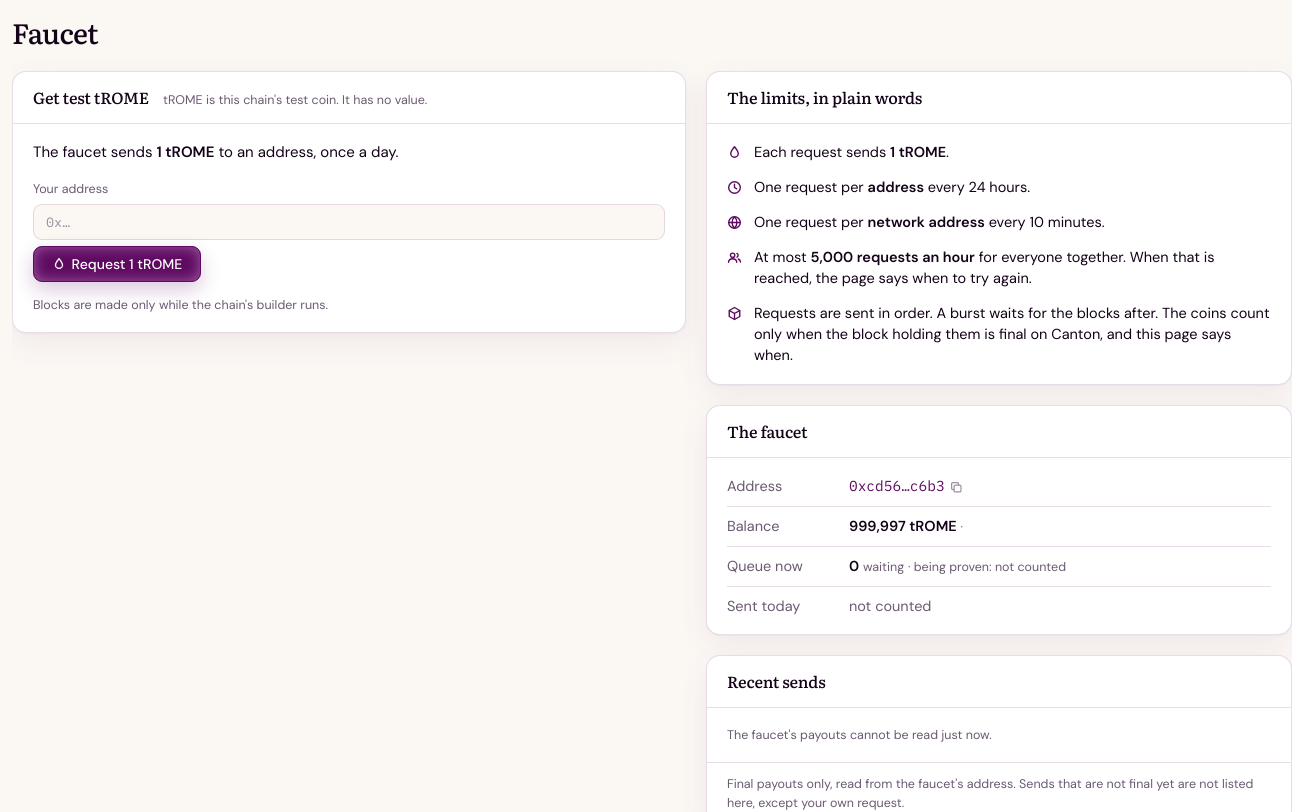
Test: a request that is taken › says the explorer no longer knows a request it has no ticket for, and stops asking
Type "0x5a04de5c5ebd085f5e3b3ec791ab5cdc8e2b56f0" into the field labelled "Your address" at (349, 222), box [33,204,665,240]
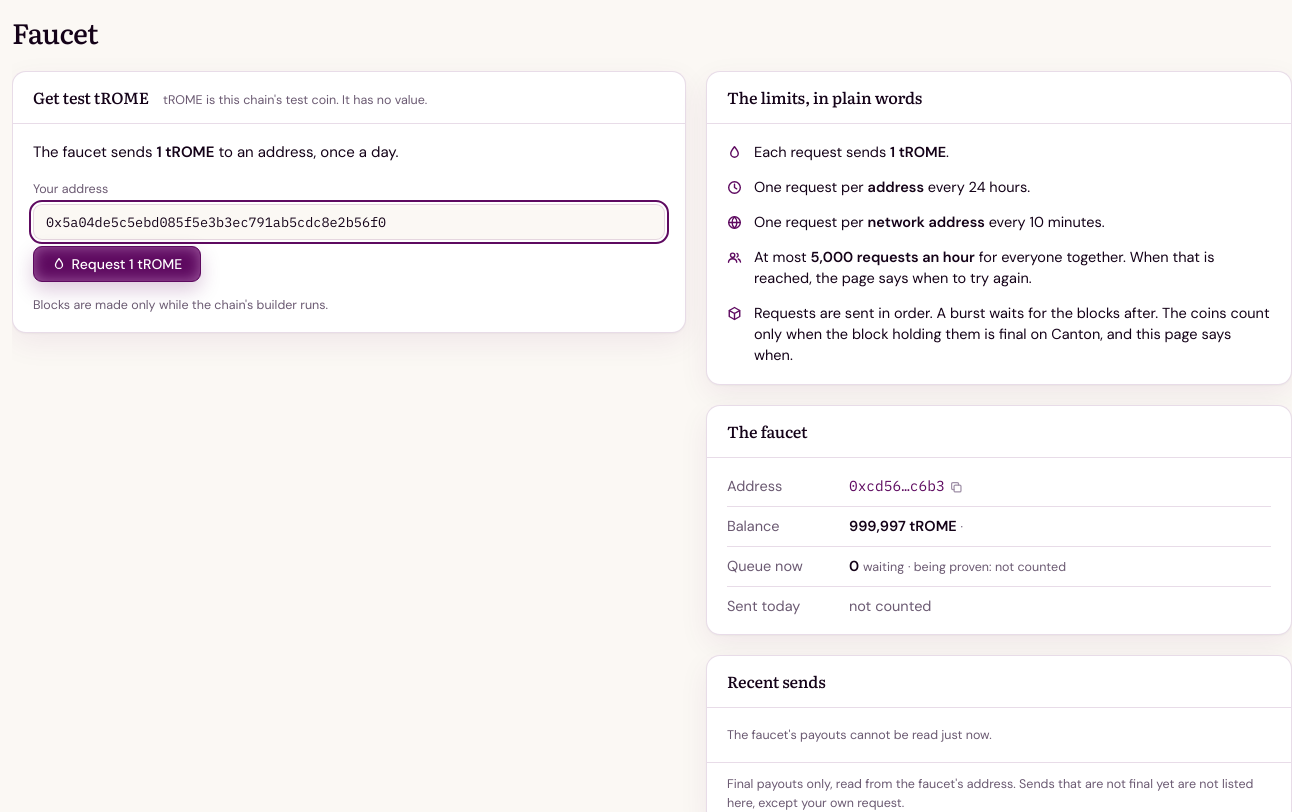
Click the button "Request 1 tROME" at (117, 264), box [33,246,201,282]
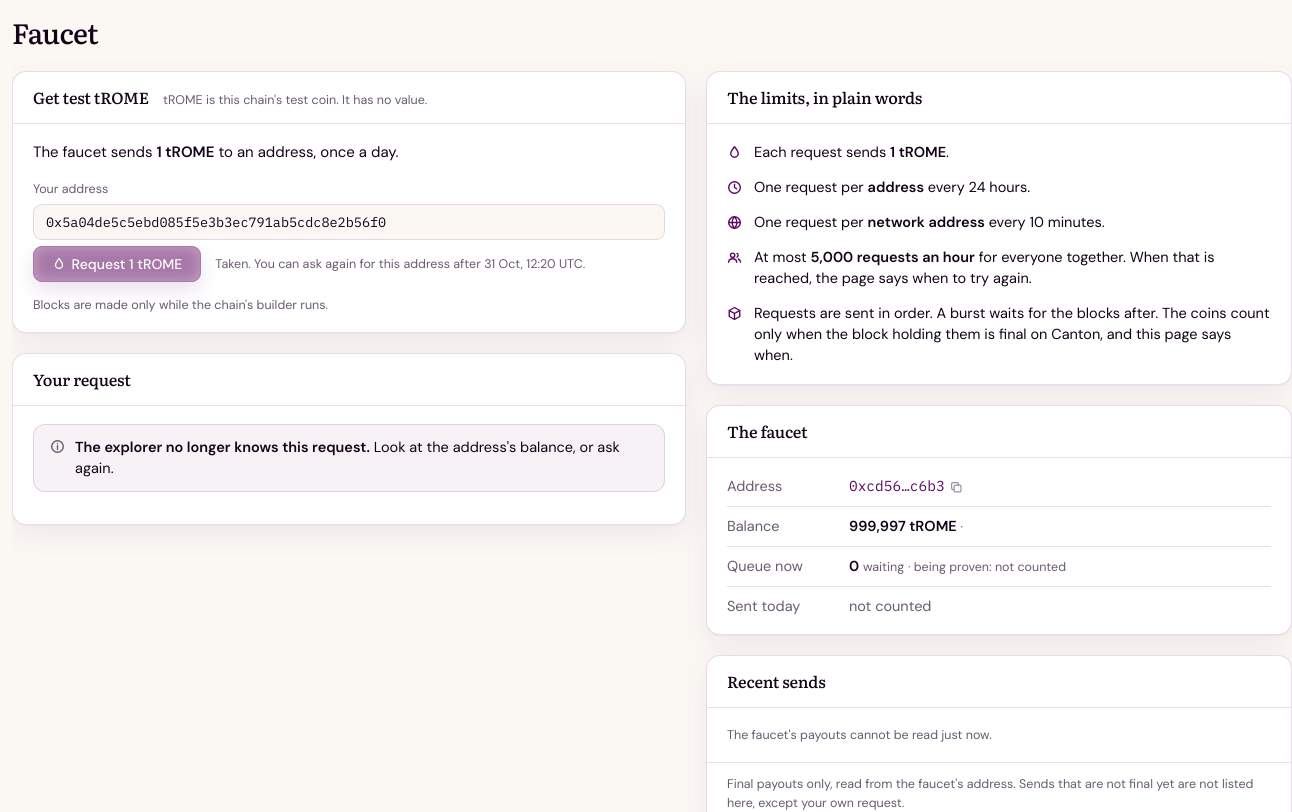
Now the text "The explorer no longer knows this request." is shown, box [75,438,370,456]
